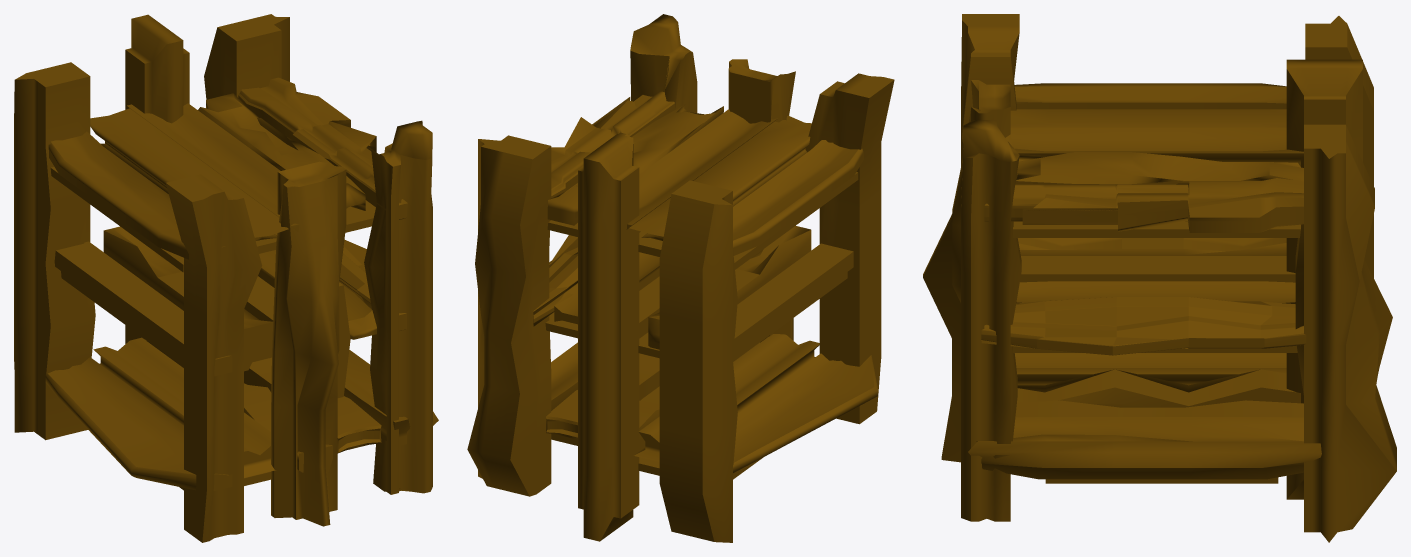
The model's file is WoodenShelf.fbx.
3 renders of one model, left to right at view 1: azimuth 30°, elevation 25°; view 2: azimuth 150°, elevation 25°; view 3: azimuth 270°, elevation 25°, orthographic. The views are drawn at different scales.
Visible parts, largest first — view 1: pCube58; view 2: pCube58; view 3: pCube58.
Part boxes in pixels (<box>): pCube58: <box>14,14,438,542</box>; pCube58: <box>467,14,894,542</box>; pCube58: <box>923,14,1396,542</box>.
Size of the model in its own units: 16.21 by 21.1 by 21.02.
